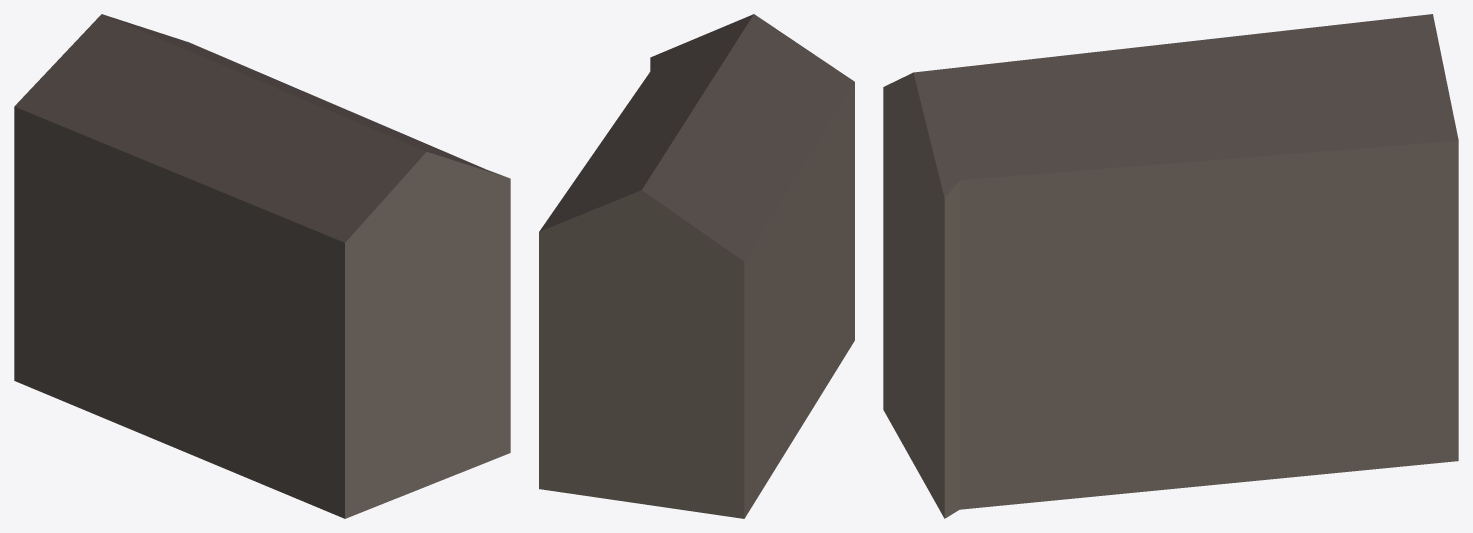
3 renders of one model, left to right at view 1: azimuth 30°, elevation 25°; view 2: azimuth 150°, elevation 25°; view 3: azimuth 270°, elevation 25°, orthographic. The views are drawn at different scales.
Parts seen in each view (by area): view 1: HP-w776801008; view 2: HP-w776801008; view 3: HP-w776801008.
Part boxes in pixels (<box>): HP-w776801008: <box>14,14,510,518</box>; HP-w776801008: <box>539,14,854,518</box>; HP-w776801008: <box>883,14,1458,518</box>.
Bounding box in the file's own units: 6.83 × 7.32 × 9.77.
